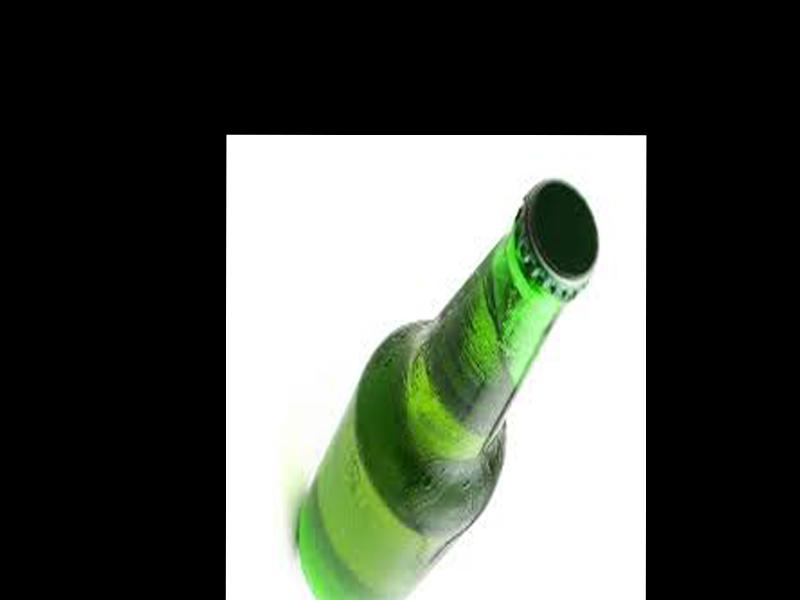Beer: (295, 178, 597, 600)
